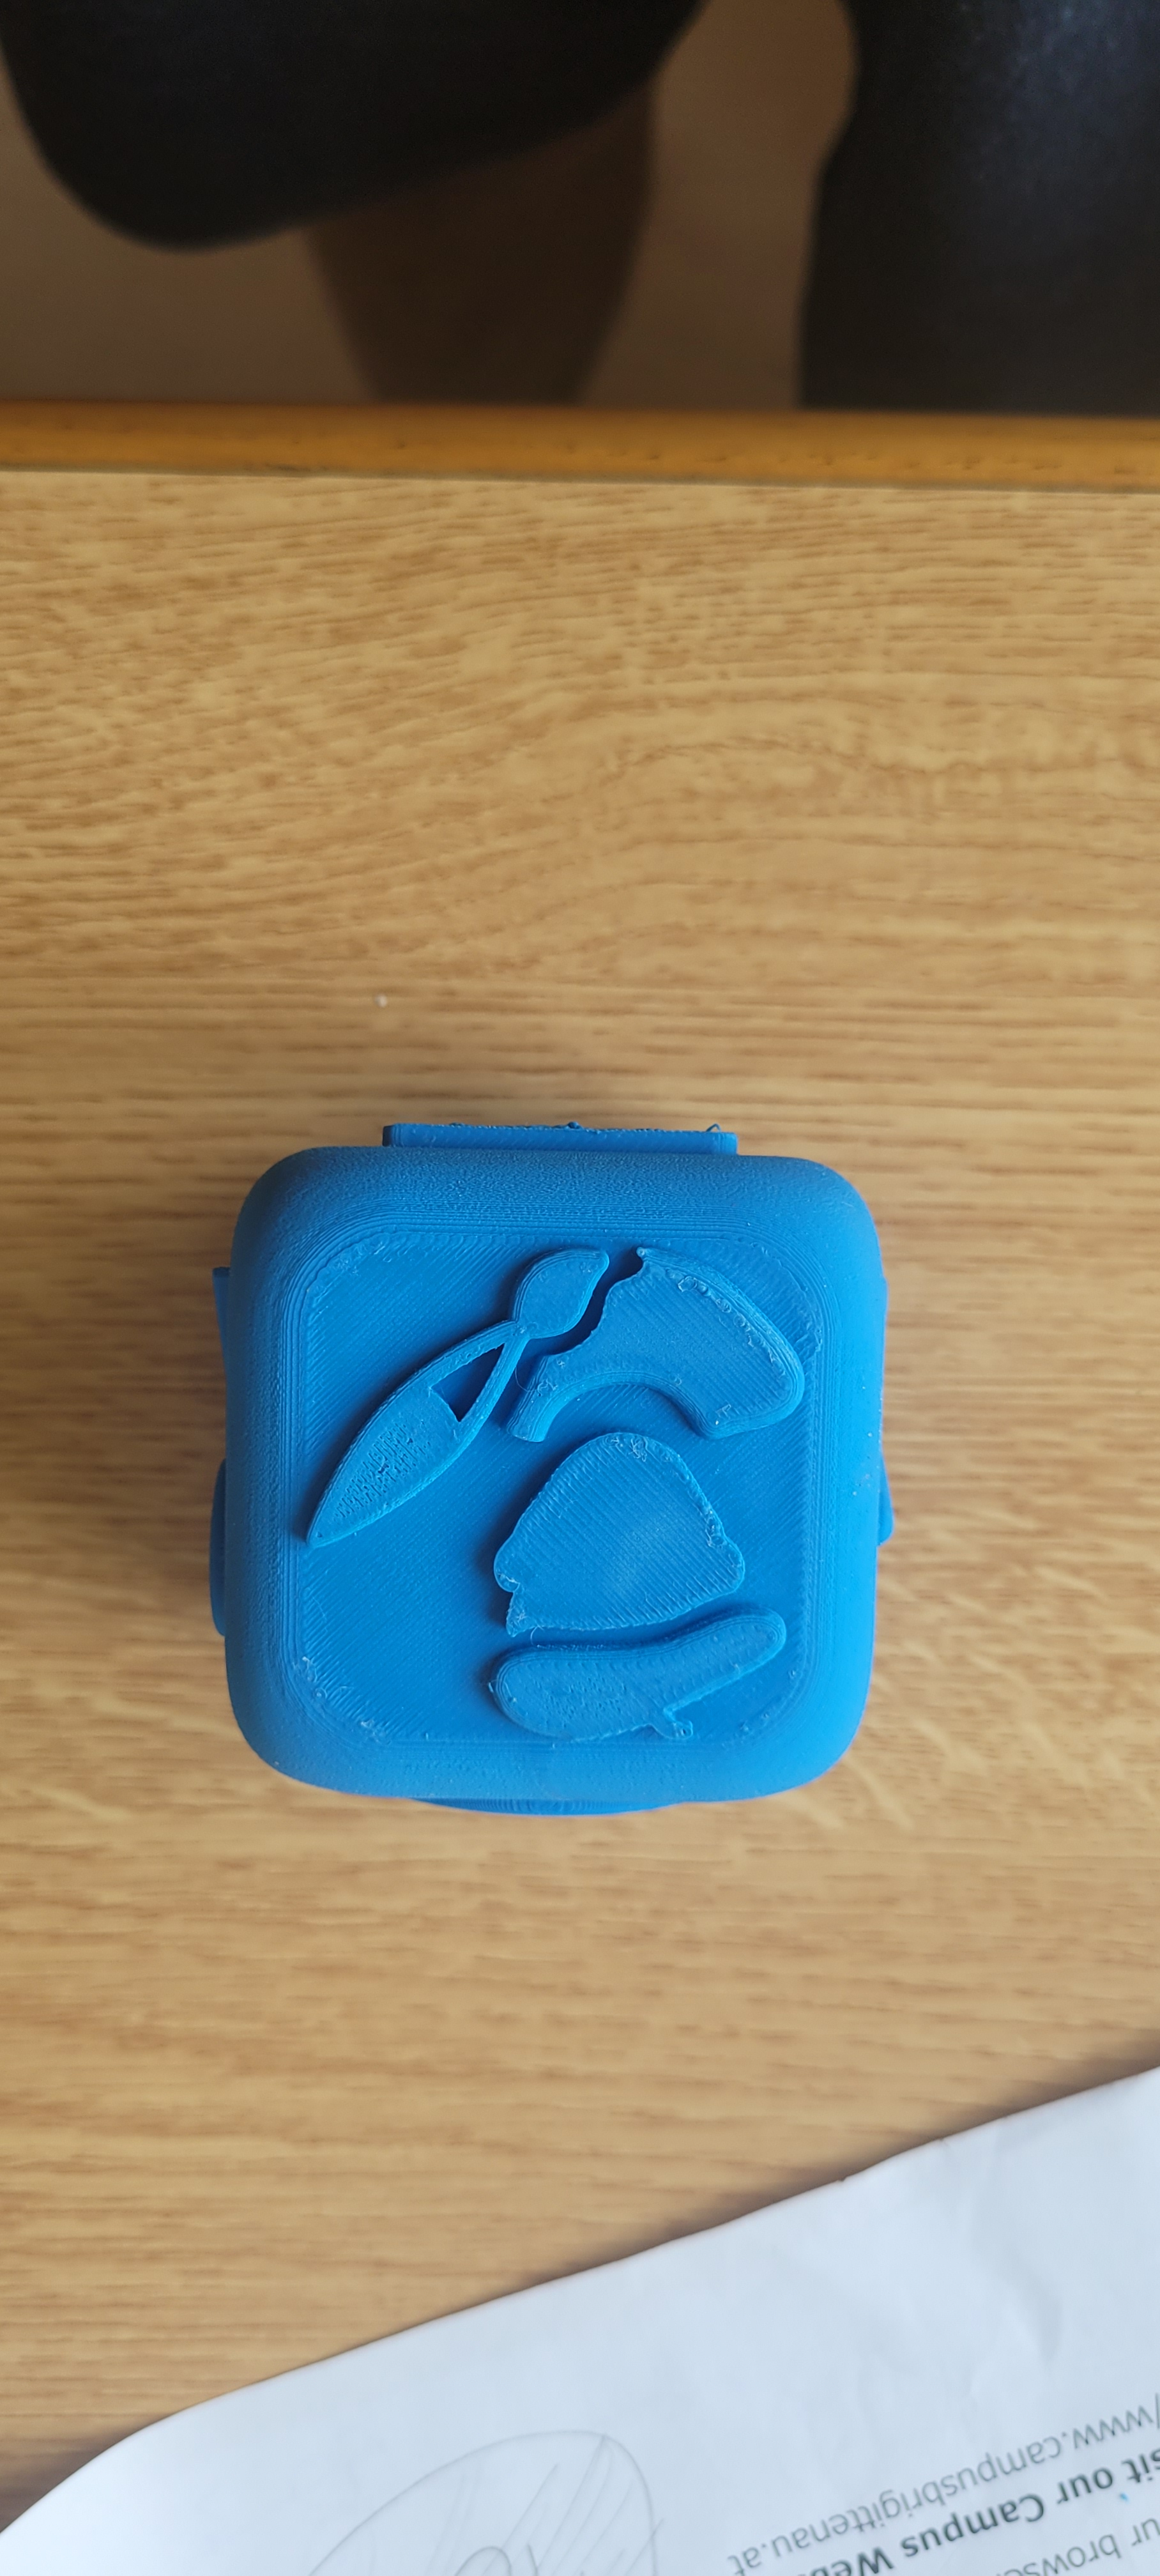Artist_Info: (228, 1125, 884, 1824)
